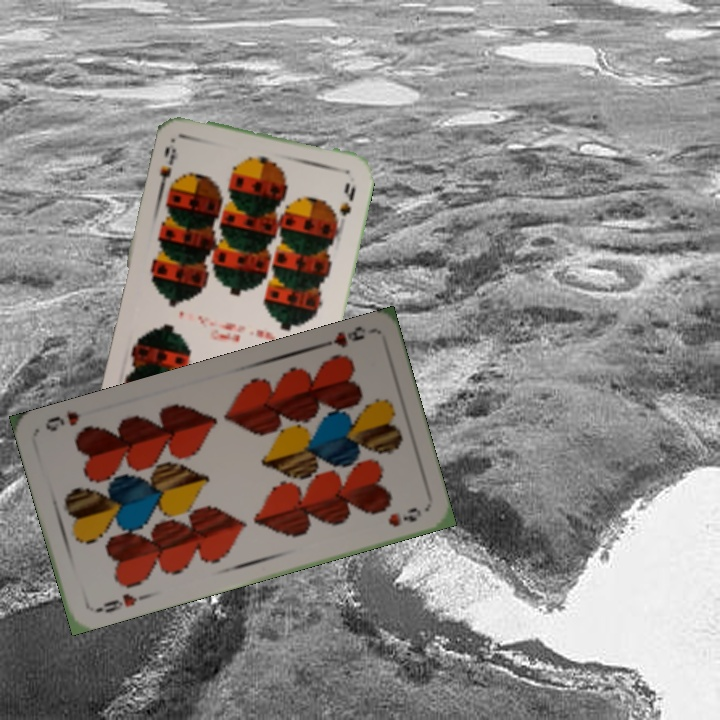H9: (91, 589, 149, 616), (316, 322, 368, 351)
S9: (155, 142, 180, 197)
